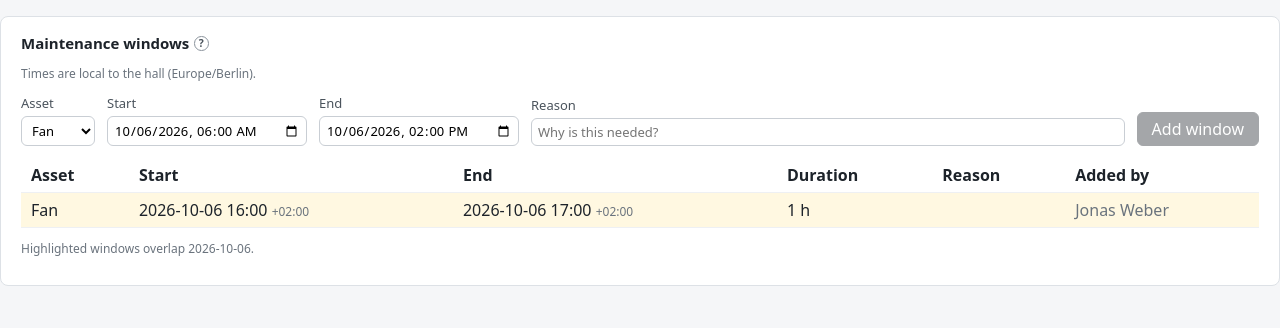
P14: rejected before reaching the server, the list proves nothing was saved
Type "Belt change" into the field named "reason" at (828, 132), box [531, 118, 1125, 146]
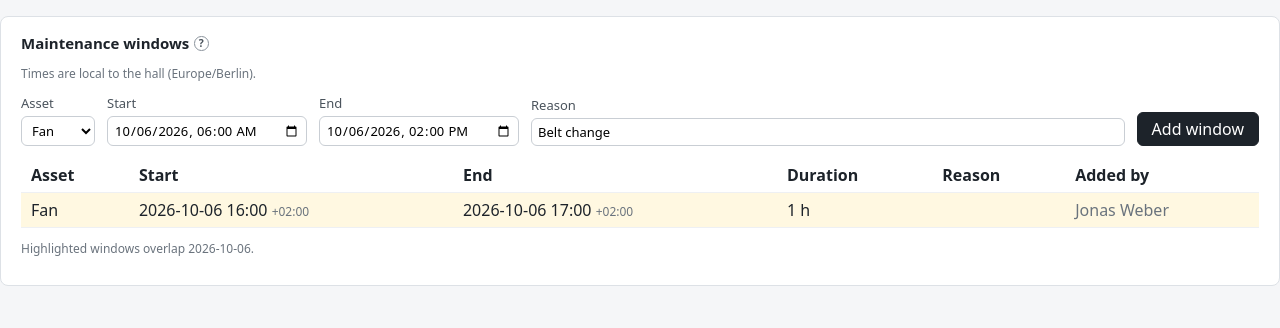
Submit the form, box [21, 94, 1259, 146]
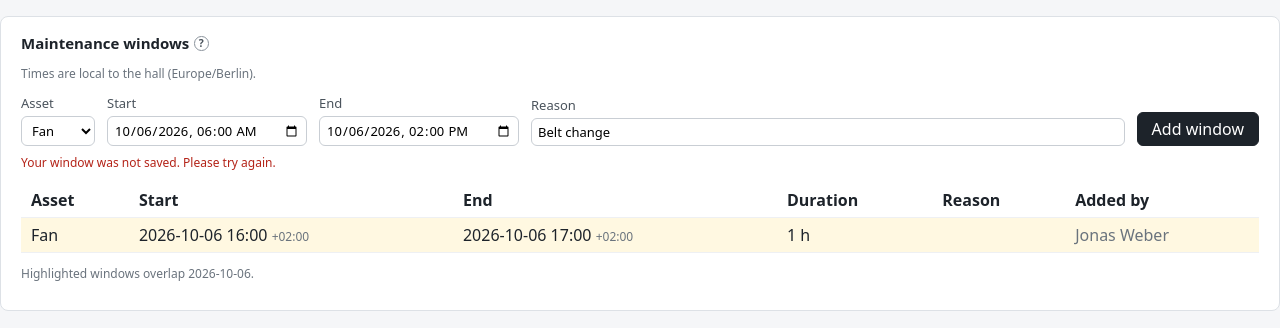
Expected: the button "Add window" is enabled, [1137, 112, 1259, 146]
Expected: the text "Your window was not saved. Please try again." is shown, [21, 154, 276, 171]
